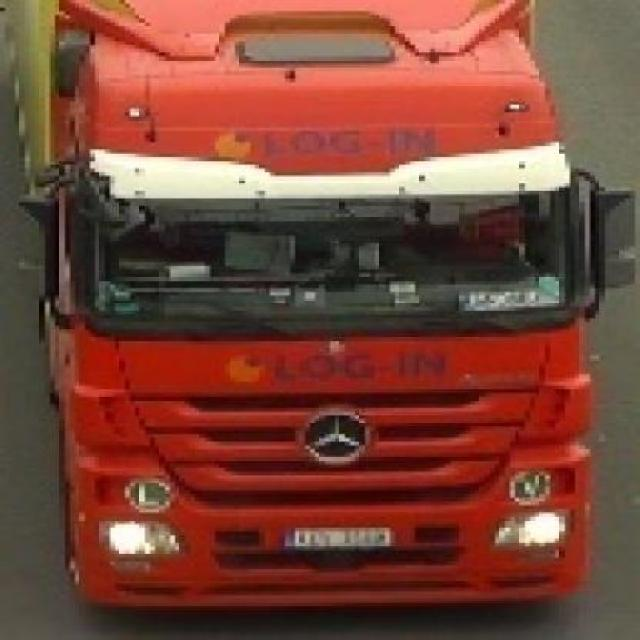truck: (36, 1, 640, 607)
